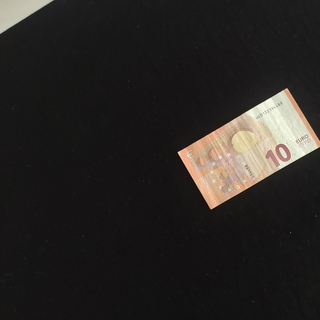10EUROBack: (177, 87, 320, 210)
